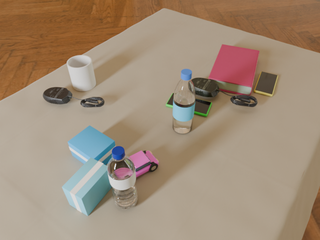book: (208, 44, 259, 95)
bottle: (107, 146, 138, 210), (173, 69, 196, 134)
box: (62, 158, 112, 216), (68, 126, 116, 165)
cup: (67, 55, 96, 91)
mouse: (191, 78, 221, 97), (43, 87, 72, 104)
phone: (166, 93, 212, 116), (254, 72, 278, 96)
toy_car: (130, 151, 159, 177)
